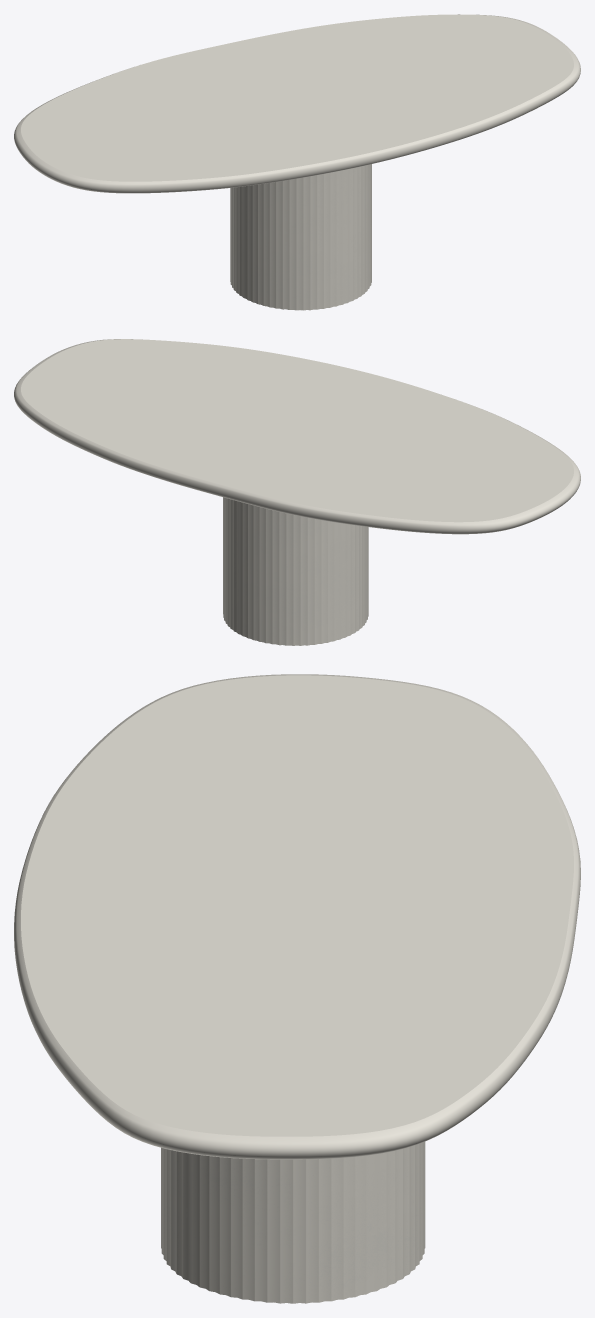
The model's file is pale_danish_round_ripple.glb.
3 renders of one model, top to bottom at view 1: azimuth 30°, elevation 25°; view 2: azimuth 150°, elevation 25°; view 3: azimuth 270°, elevation 25°, orthographic. The views are drawn at different scales.
Visible parts, largest first — view 1: round_danish, ripple; view 2: round_danish, ripple; view 3: round_danish, ripple.
Boxes of the visible parts, <box> form: round_danish: <box>14,14,580,193</box>; ripple: <box>230,164,371,310</box>; round_danish: <box>14,339,580,534</box>; ripple: <box>223,497,368,645</box>; round_danish: <box>14,674,580,1159</box>; ripple: <box>161,1141,425,1303</box>.
Bounding box in the file's own units: 7.5 × 2.51 × 3.8.
1 material, 1 textured.
